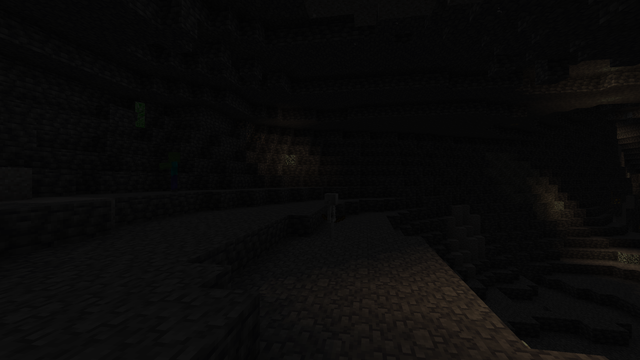creepers: (131, 100, 146, 128)
squelettes: (323, 193, 337, 239)
zombies: (164, 152, 183, 191)
